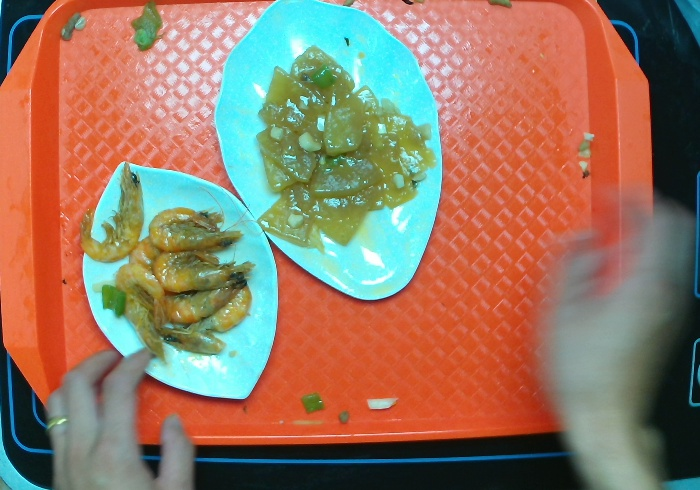RJxy-Bai_Ye_Pan: (214, 1, 447, 303)
RJxy-Da_Du_Pan: (82, 155, 282, 410)
